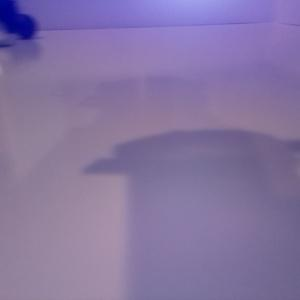alive_ball: (1, 22, 8, 47)
dead_ball: (13, 13, 38, 39)
